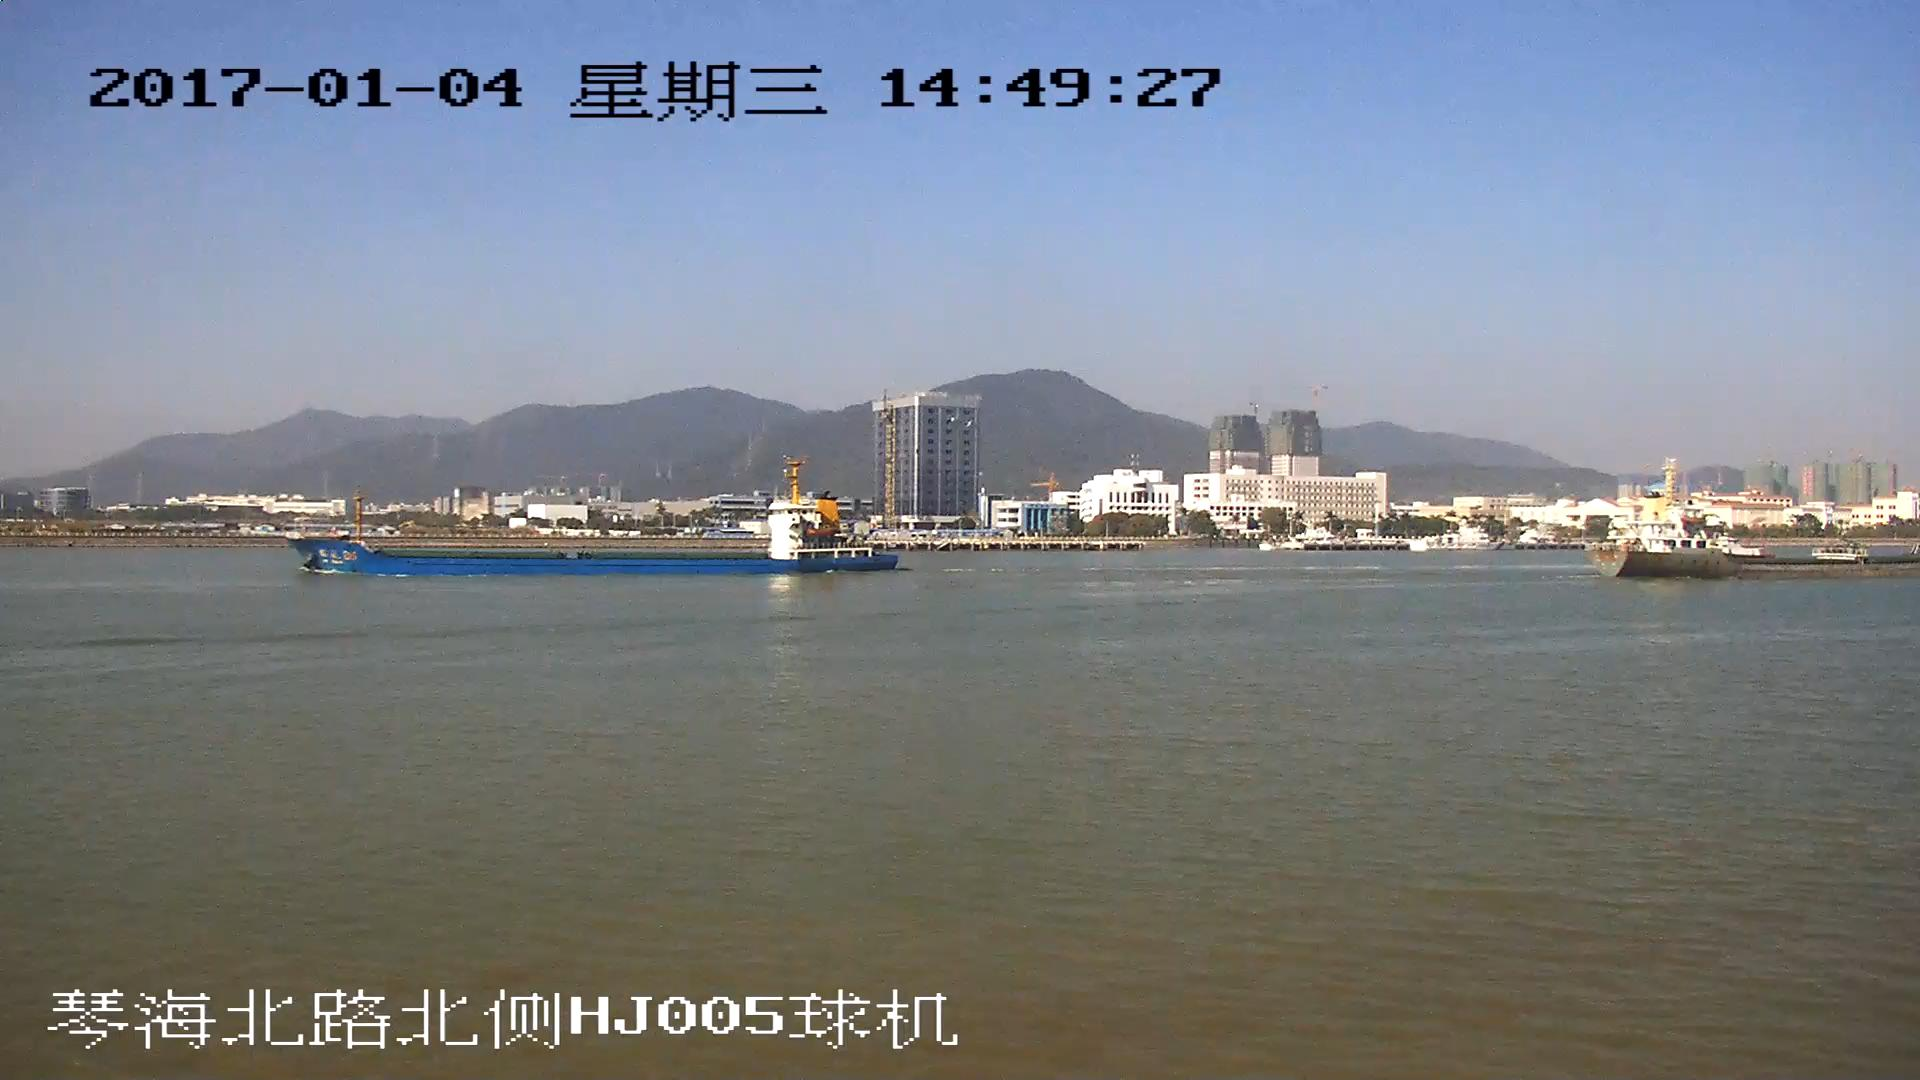general cargo ship: (292, 469, 896, 581), (1597, 471, 1920, 579)
